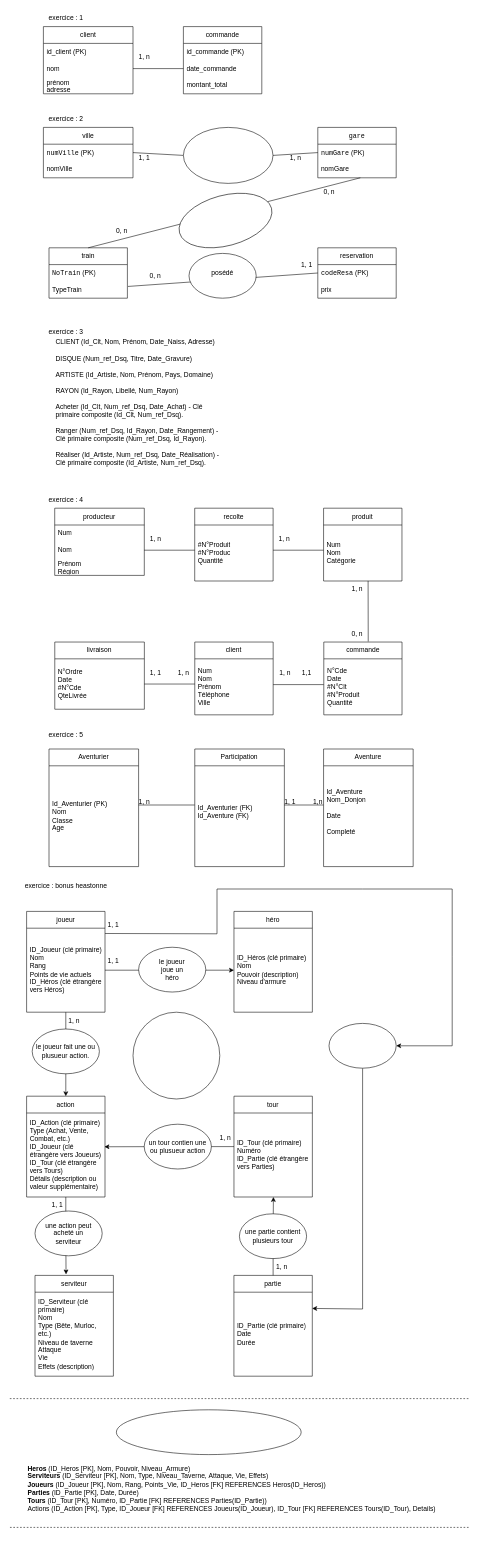
The diagram is 480 pixels wide and 1553 high, and some of its shapes have lost their labels. The centre of each missing label's shape, as x and y in pixels:
etre situé: the point at 228,155
MCD: the point at 176,1055
MLD: the point at 208,1432
roulé: the point at 225,220
un joueur fait une partie: the point at 362,1045
